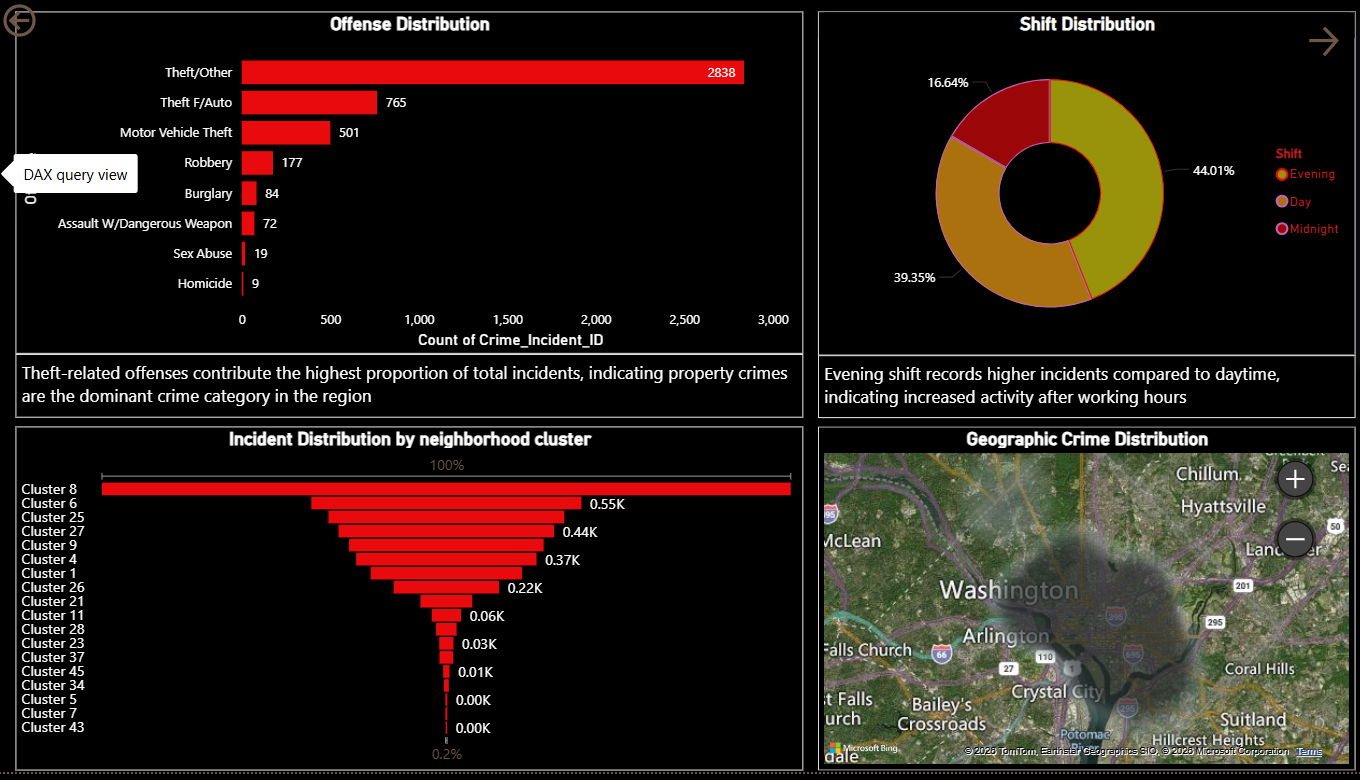

What the dashboard file says about the page in this screenshot:
{"tool":"powerbi","page":{"name":"Offense distribution","canvas":[1280,720],"ordinal":1},"visuals":[{"type":"funnel","title":"Incident Distribution  by neighborhood cluster","fields":{"Category":["Crime_Incidents_in_2025.Neighborhood_Cluster","Crime_Incidents_in_2025.Shift"],"Y":["CountNonNull(Crime_Incidents_in_2025.Crime_Incident_ID)"]},"box":[16.3,397.7,732.6,319.8],"z":0},{"type":"textbox","box":[16.3,330.2,732.6,59.3],"z":1000},{"type":"map","title":"Geographic Crime Distribution","fields":{"Y":["Crime_Incidents_in_2025.Latitude"],"X":["Crime_Incidents_in_2025.Longitude"],"Size":["Crime_Incidents_in_2025.Total_Incidents"]},"box":[762.8,397.7,500,319.8],"z":2000},{"type":"donutChart","title":" Shift Distribution","fields":{"Category":["Crime_Incidents_in_2025.Shift"],"Y":["Crime_Incidents_in_2025.Total_Incidents"]},"box":[762.8,11.6,500,319.8],"z":3000},{"type":"clusteredBarChart","title":"Offense Distribution","fields":{"Category":["Crime_Incidents_in_2025.Offense"],"Y":["CountNonNull(Crime_Incidents_in_2025.Crime_Incident_ID)"]},"box":[16.3,11.6,732.6,318.6],"z":4000},{"type":"textbox","box":[762.8,331.4,500,58.1],"z":5000},{"type":"actionButton","box":[1214,20.9,48.8,37.2],"z":6000},{"type":"actionButton","box":[0,0,100,40],"z":7000}]}

Visuals, with their boxes in screenshot pixels (x1, y1, x2, y2):
"Incident Distribution  by neighborhood cluster" funnel: <bbox>0, 425, 796, 772</bbox>
textbox: <bbox>0, 352, 796, 416</bbox>
"Geographic Crime Distribution" map: <bbox>811, 425, 1354, 772</bbox>
" Shift Distribution" donutChart: <bbox>811, 6, 1354, 353</bbox>
"Offense Distribution" clusteredBarChart: <bbox>0, 6, 796, 352</bbox>
textbox: <bbox>811, 353, 1354, 416</bbox>
actionButton: <bbox>1301, 16, 1354, 56</bbox>
actionButton: <bbox>0, 0, 91, 36</bbox>
